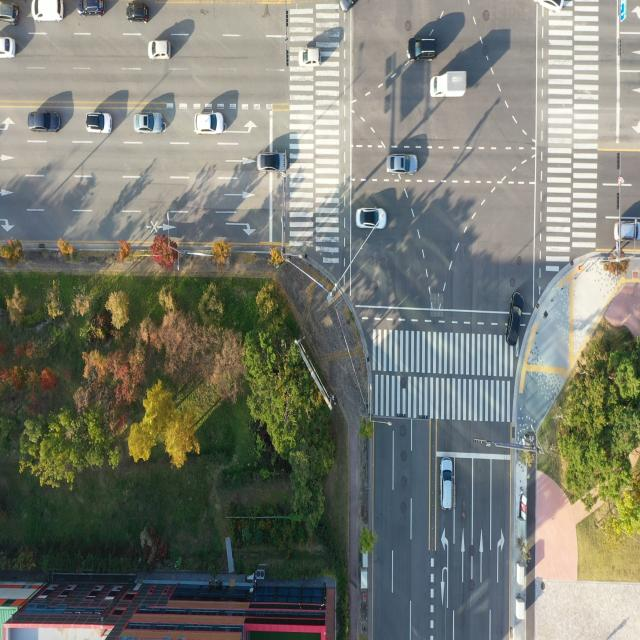car: (506, 291, 526, 344), (441, 457, 457, 512), (406, 36, 438, 63), (27, 110, 60, 134), (32, 0, 63, 25), (614, 215, 640, 244), (196, 111, 226, 136), (356, 208, 385, 231), (388, 155, 418, 177), (148, 36, 172, 62), (135, 112, 163, 134), (127, 0, 151, 25), (299, 44, 321, 70), (259, 154, 286, 175), (0, 3, 21, 29), (78, 0, 109, 17), (87, 112, 111, 133), (0, 36, 16, 60), (536, 0, 568, 11), (336, 0, 359, 13)
small_truck: (430, 66, 470, 102)
